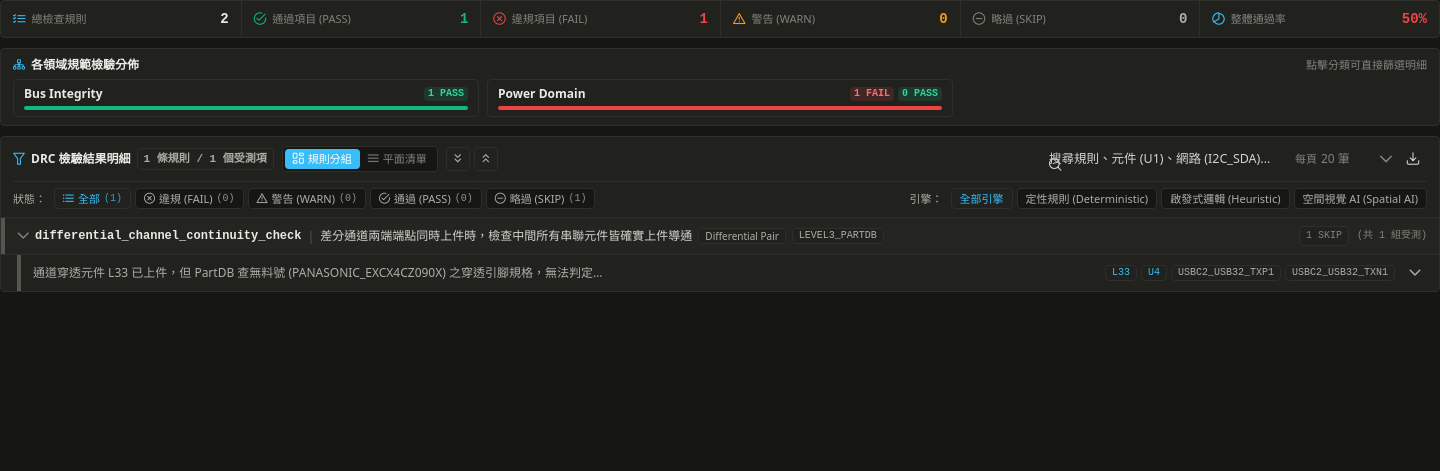
TaskReportDashboard.vue › 當受測項目為 SKIPPED 且具有 skip_reason 時，展開佐證區塊應正確顯示 skip_reason 取代預設文字
Click the button with class "expand-btn" at {"x": 1415, "y": 273}, box [1403,261,1427,285]
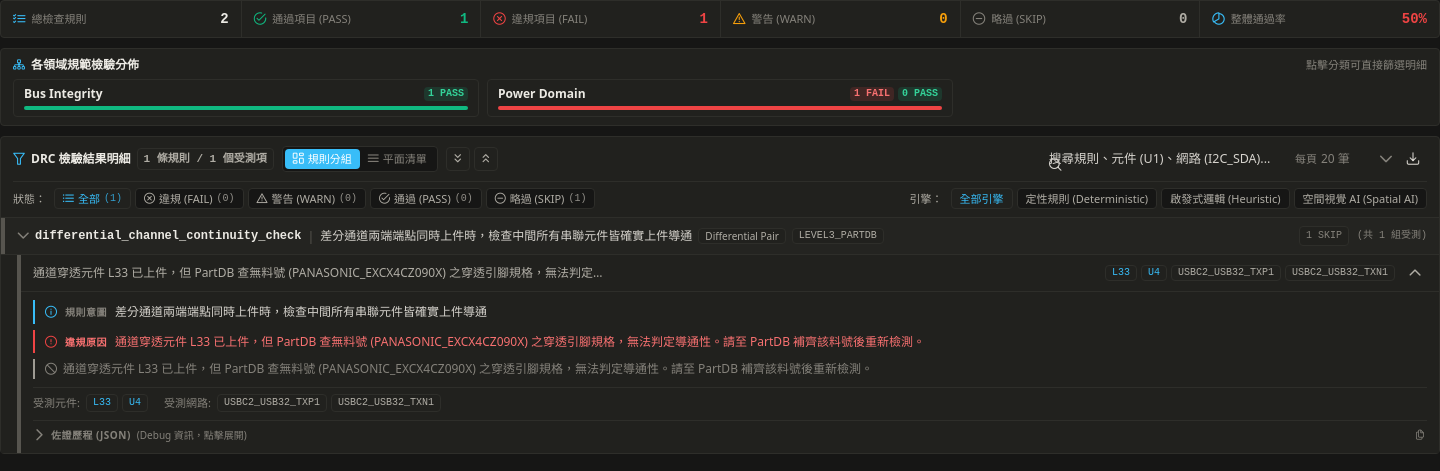
expect the element with class "skipped-box" is shown: met, box [33,359,1427,379]
expect the element with class "skipped-box" shows "通道穿透元件 L33 已上件，但 PartDB 查無料號 (PANASONIC_EXCX4CZ090X) 之穿透引腳規格": met, box [63,360,873,377]
